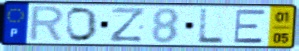8: (151, 6, 182, 45)
E: (232, 8, 267, 44)
L: (196, 7, 227, 45)
O: (65, 6, 99, 43)
R: (26, 5, 67, 44)
Z: (109, 6, 147, 44)
